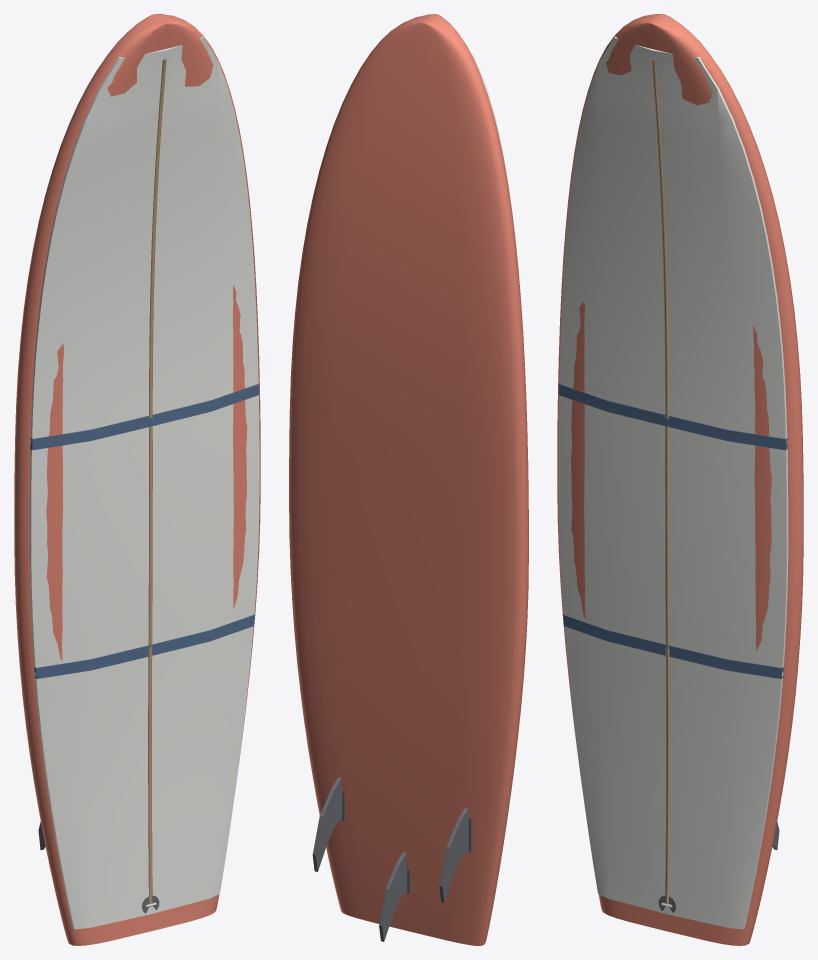
Rendered from beach-surf-and-paddle-kit-foamie-soft-surfboard-7c40f166__39417.glb.
3 renders of one model, left to right at view 1: azimuth 30°, elevation 25°; view 2: azimuth 150°, elevation 25°; view 3: azimuth 330°, elevation 25°, orthographic. The views are drawn at different scales.
Parts seen in each view (by area): view 1: foamie-soft-surfboard-foam, foamie-soft-surfboard-coral, foamie-soft-surfboard-navy, foamie-soft-surfboard-timber; view 2: foamie-soft-surfboard-coral, foamie-soft-surfboard-charcoal; view 3: foamie-soft-surfboard-foam, foamie-soft-surfboard-coral, foamie-soft-surfboard-navy, foamie-soft-surfboard-timber.
Part boxes in pixels (left/top/right/bottom): foamie-soft-surfboard-foam: left=29, top=36, right=259, bottom=929; foamie-soft-surfboard-coral: left=14, top=14, right=260, bottom=945; foamie-soft-surfboard-navy: left=30, top=384, right=259, bottom=678; foamie-soft-surfboard-timber: left=148, top=58, right=166, bottom=904; foamie-soft-surfboard-coral: left=289, top=14, right=528, bottom=945; foamie-soft-surfboard-charcoal: left=312, top=777, right=472, bottom=941; foamie-soft-surfboard-foam: left=558, top=36, right=788, bottom=929; foamie-soft-surfboard-coral: left=557, top=14, right=803, bottom=945; foamie-soft-surfboard-navy: left=558, top=384, right=787, bottom=678; foamie-soft-surfboard-timber: left=651, top=58, right=669, bottom=904.
Size of the model in its own units: 0.5799 by 2.1 by 0.2533.
